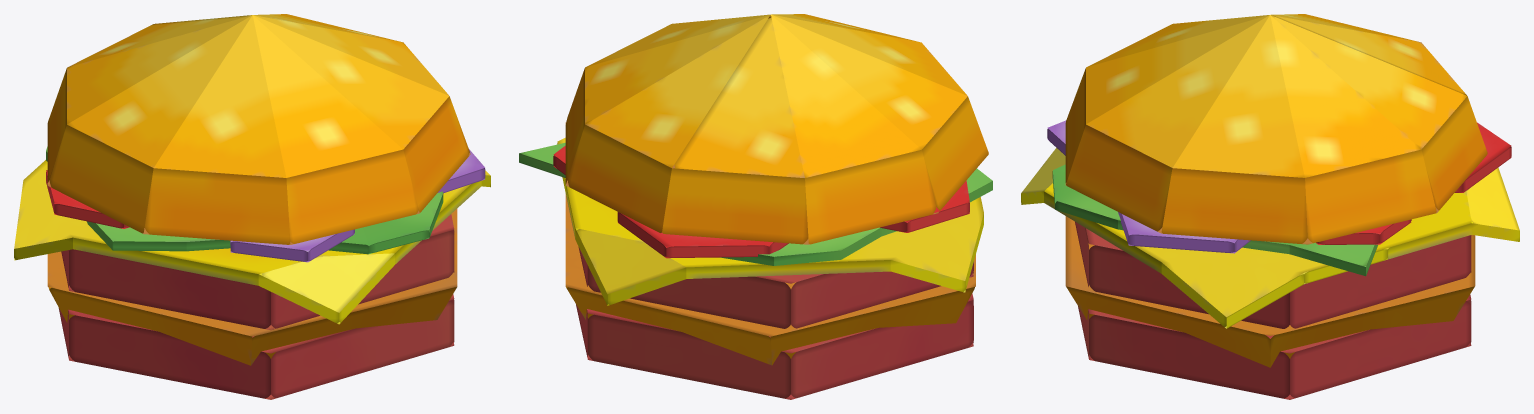
The model's file is Burger.fbx.
3 views of the same model, side by side, from view 1: azimuth 30°, elevation 25°; view 2: azimuth 150°, elevation 25°; view 3: azimuth 270°, elevation 25° (orthographic).
Visible parts, largest first — view 1: BoolochkaU, Kotleta, Cheese, Kotleta_1, BoolochkaD, Salat, Onion, Pomidor_1, Onion_2; view 2: BoolochkaU, Kotleta, Cheese, BoolochkaD, Kotleta_1, Salat, Pomidor_2, Pomidor_1; view 3: BoolochkaU, Kotleta, Cheese, Kotleta_1, BoolochkaD, Salat, Onion_2, Pomidor_2, Pomidor, Onion.
Boxes of the visible parts, <box> form: BoolochkaU: <box>47,14,470,244</box>; Kotleta: <box>58,294,454,399</box>; Cheese: <box>14,160,490,324</box>; Kotleta_1: <box>61,214,454,330</box>; BoolochkaD: <box>47,209,457,365</box>; Salat: <box>46,146,443,254</box>; Onion: <box>230,229,354,262</box>; Pomidor_1: <box>46,170,129,228</box>; Onion_2: <box>438,149,485,193</box>; BoolochkaU: <box>565,14,988,244</box>; Kotleta: <box>576,293,973,399</box>; Cheese: <box>557,137,983,305</box>; BoolochkaD: <box>565,194,975,365</box>; Kotleta_1: <box>578,247,973,328</box>; Salat: <box>519,142,992,265</box>; Pomidor_2: <box>617,212,788,258</box>; Pomidor_1: <box>880,180,969,232</box>; BoolochkaU: <box>1065,14,1487,244</box>; Kotleta: <box>1078,294,1471,399</box>; Cheese: <box>1021,148,1519,328</box>; Kotleta_1: <box>1075,222,1471,328</box>; BoolochkaD: <box>1065,216,1475,367</box>; Salat: <box>1052,164,1377,276</box>; Onion_2: <box>1118,212,1250,253</box>; Pomidor_2: <box>1455,122,1511,192</box>; Pomidor: <box>1316,219,1411,244</box>; Onion: <box>1047,120,1065,155</box>.
Size of the model in its own units: 60.93 by 39.22 by 60.93.
1 material, 1 textured.
